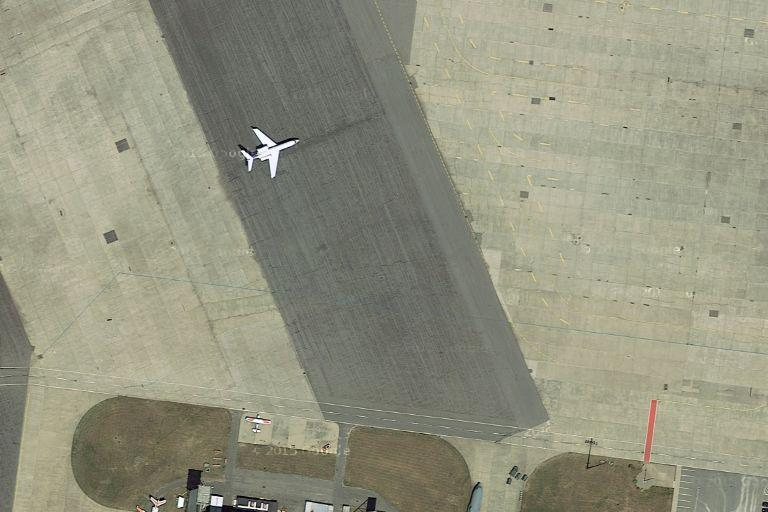plane: (235, 123, 304, 179)
